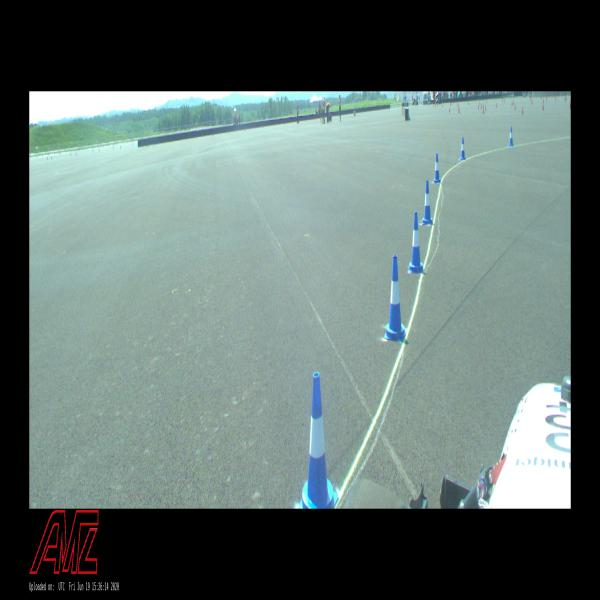blue_cone: (300, 372, 338, 508), (384, 255, 406, 341), (408, 211, 424, 272), (422, 180, 433, 226), (433, 153, 441, 183), (460, 137, 466, 160), (508, 127, 514, 146)
